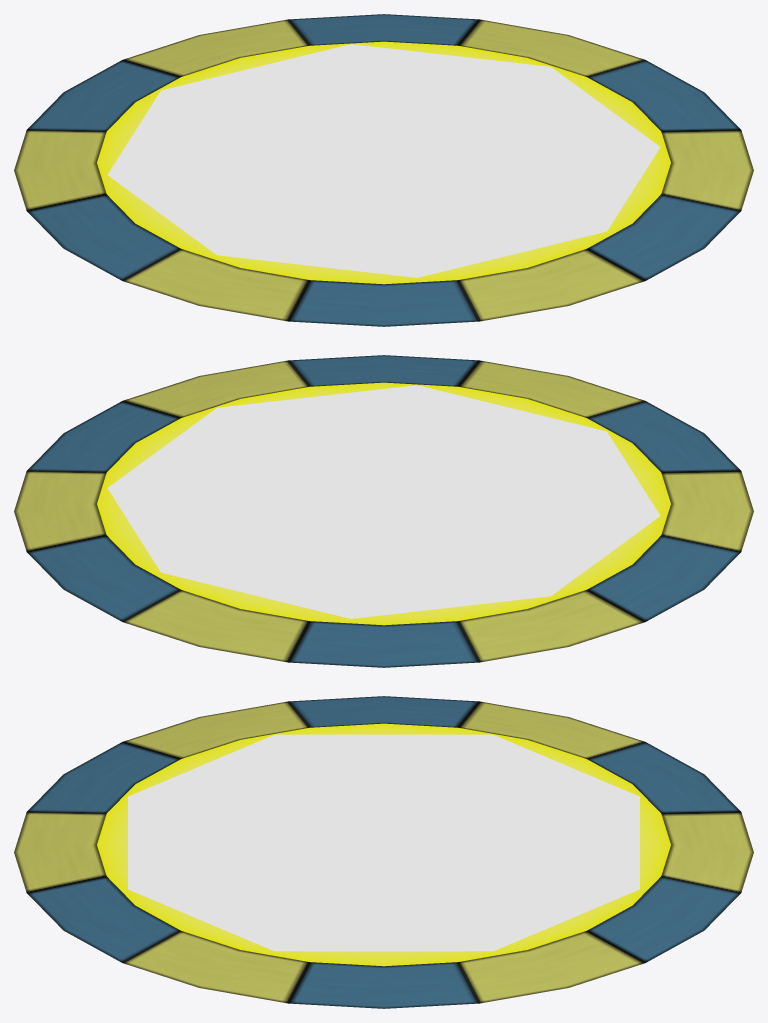
File: SM_FloorFan.fbx
The picture shows the model from 3 angles, top to bottom: view 1: azimuth 30°, elevation 25°; view 2: azimuth 150°, elevation 25°; view 3: azimuth 270°, elevation 25°; orthographic projection.
Parts seen in each view (by area): view 1: transform17; view 2: transform17; view 3: transform17.
Part boxes in pixels (box(x1,y1,x2,y2)): transform17: box(14, 14, 753, 326); transform17: box(14, 355, 753, 667); transform17: box(14, 696, 753, 1008).
Bounding box in the file's own units: 444 × 444 × 6.25.
